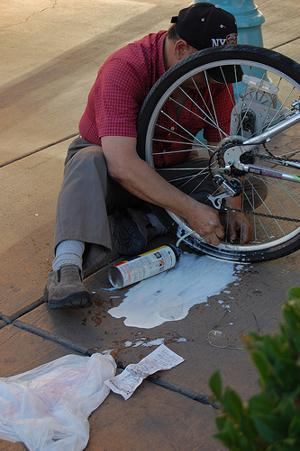person: (46, 4, 270, 308)
